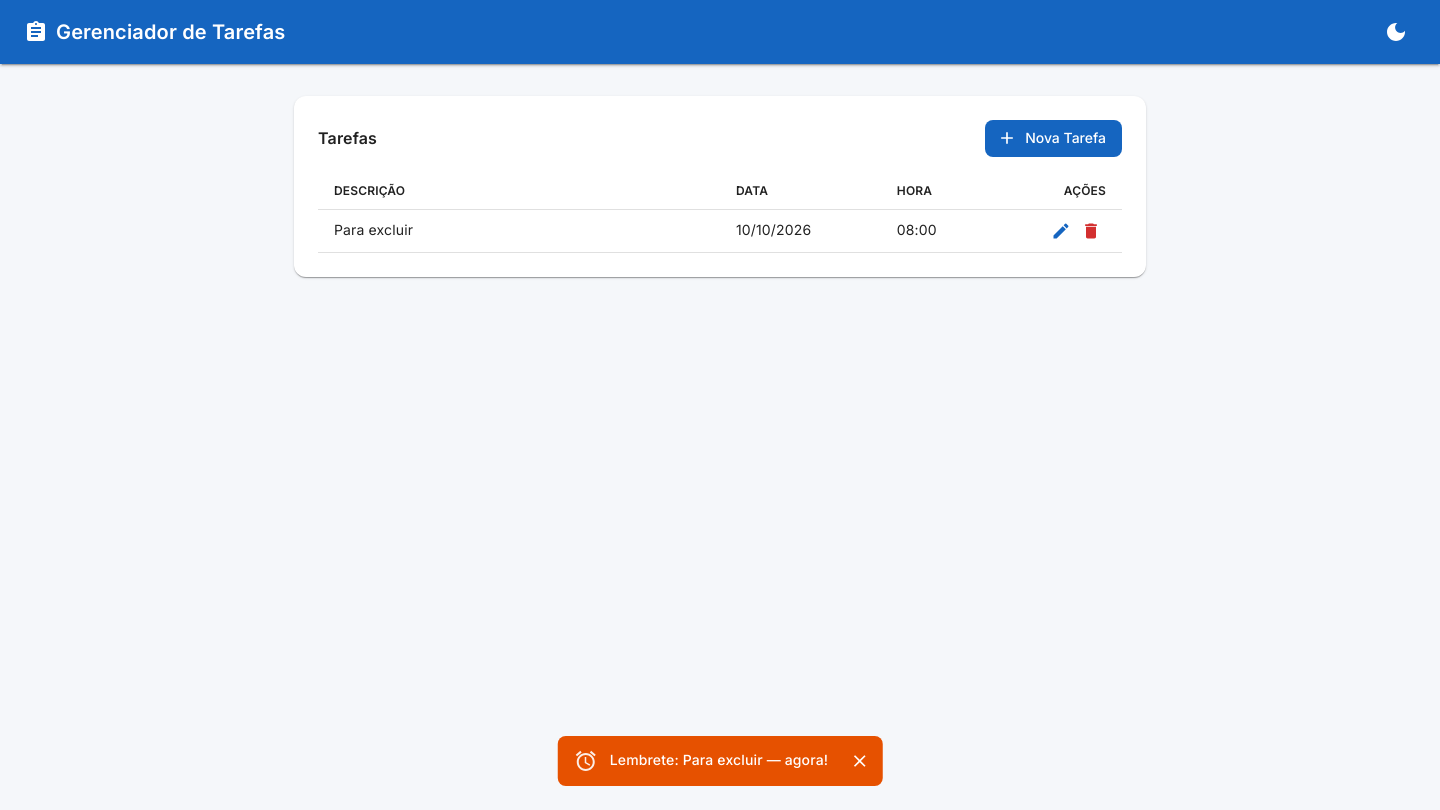
it: App — integration › AC-5: deletes a task after confirmation; it disappears from list and localStorage
Expected: the text "Para excluir" is shown, left=334, top=222, right=413, bottom=238
Click delete button
Click the button named "excluir tarefa".
click(1091, 230)  # box left=1076, top=216, right=1106, bottom=246
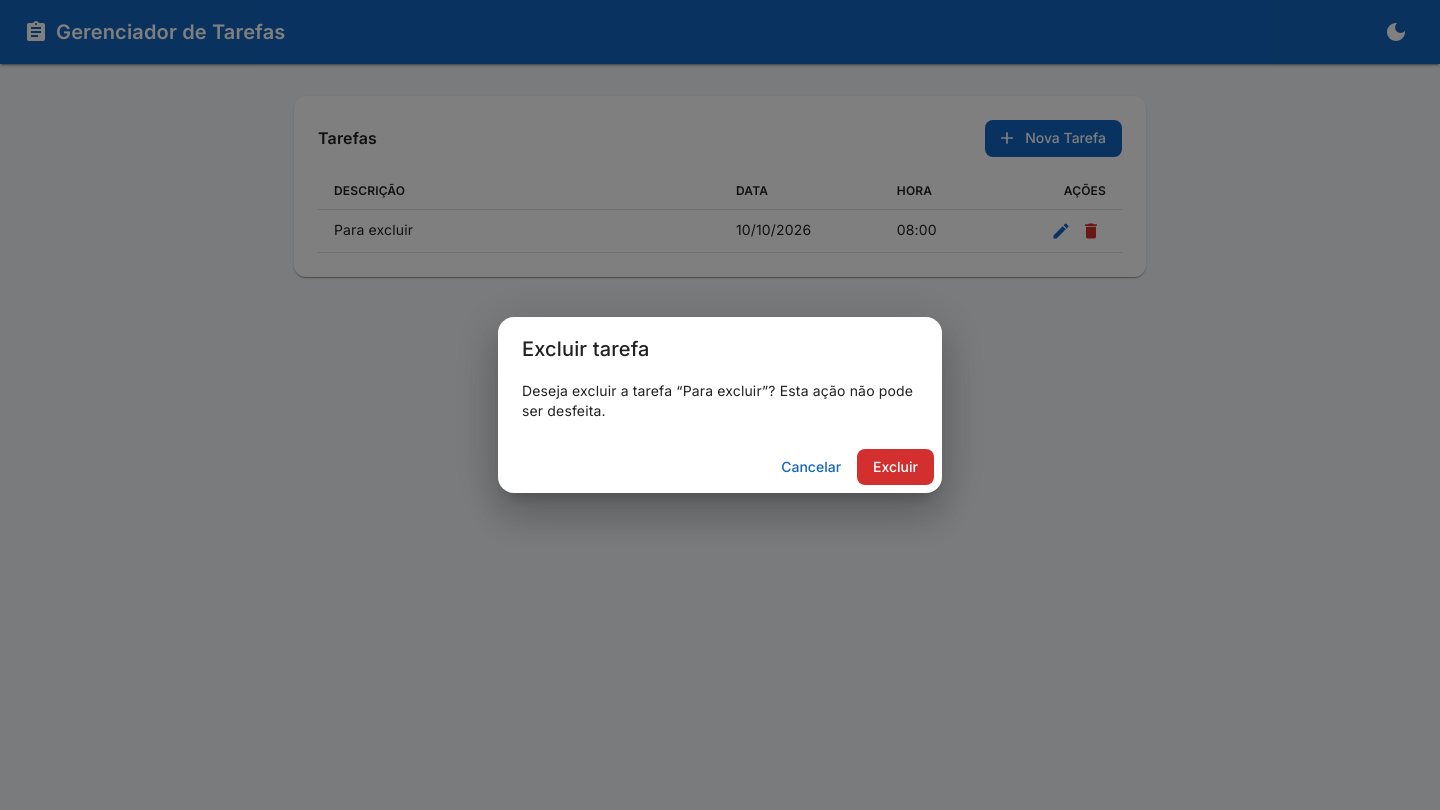
Expected: the dialog "Excluir tarefa" is shown, left=498, top=317, right=942, bottom=493
Expected: the text "Deseja excluir a tarefa" is shown, left=522, top=382, right=683, bottom=399
Click the button "Excluir".
click(896, 467)  # box left=857, top=449, right=934, bottom=485
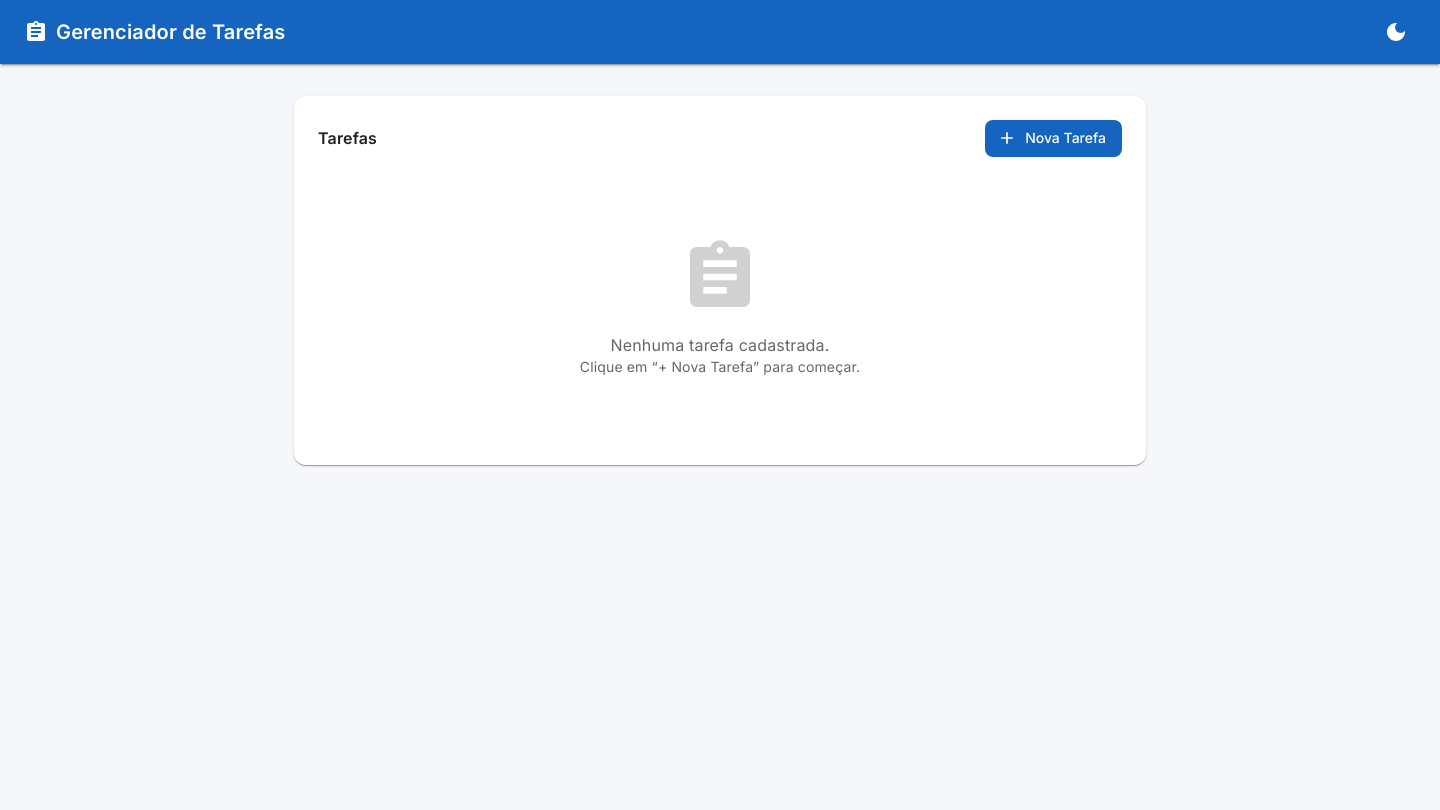
Expected: the text "Para excluir" is gone
